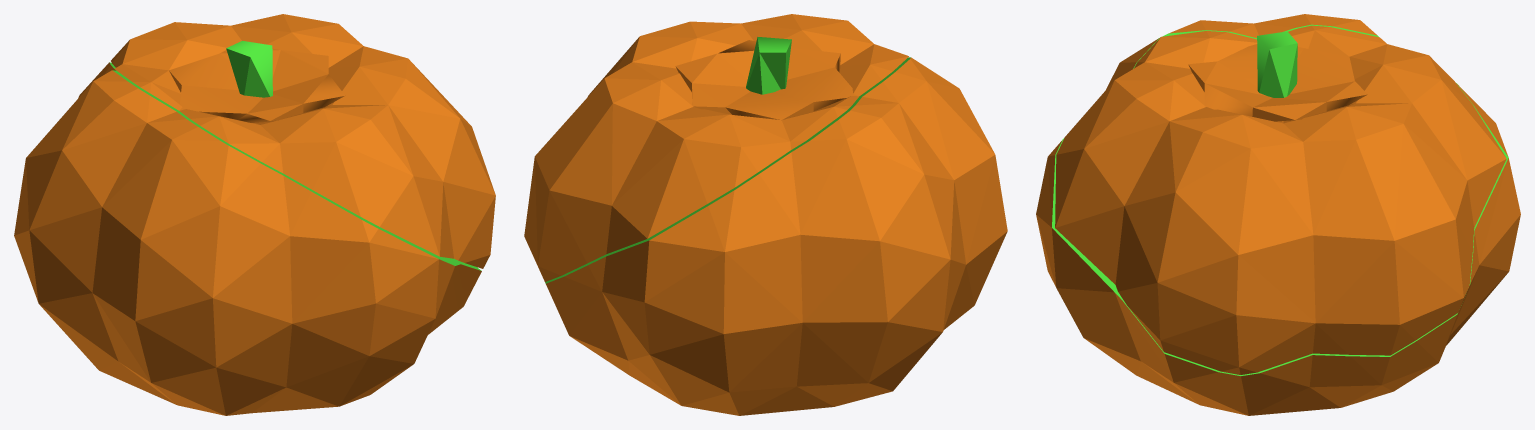
Rendered from BrokenPumpkin.fbx.
The picture shows the model from 3 angles, left to right: view 1: azimuth 30°, elevation 25°; view 2: azimuth 150°, elevation 25°; view 3: azimuth 270°, elevation 25°; orthographic projection.
Parts seen in each view (by area): view 1: Pumpkin_cell.001, pumpkinOuter; view 2: Pumpkin_cell.001, pumpkinOuter; view 3: pumpkinOuter, Pumpkin_cell.001.
Part boxes in pixels (x1,y1,x2,y2): Pumpkin_cell.001: (14, 62, 481, 415); pumpkinOuter: (111, 14, 495, 268); Pumpkin_cell.001: (544, 57, 1007, 415); pumpkinOuter: (524, 14, 908, 281); pumpkinOuter: (1055, 25, 1506, 374); Pumpkin_cell.001: (1036, 14, 1520, 415).
Size of the model in its own units: 33.87 by 25.33 by 34.43.
